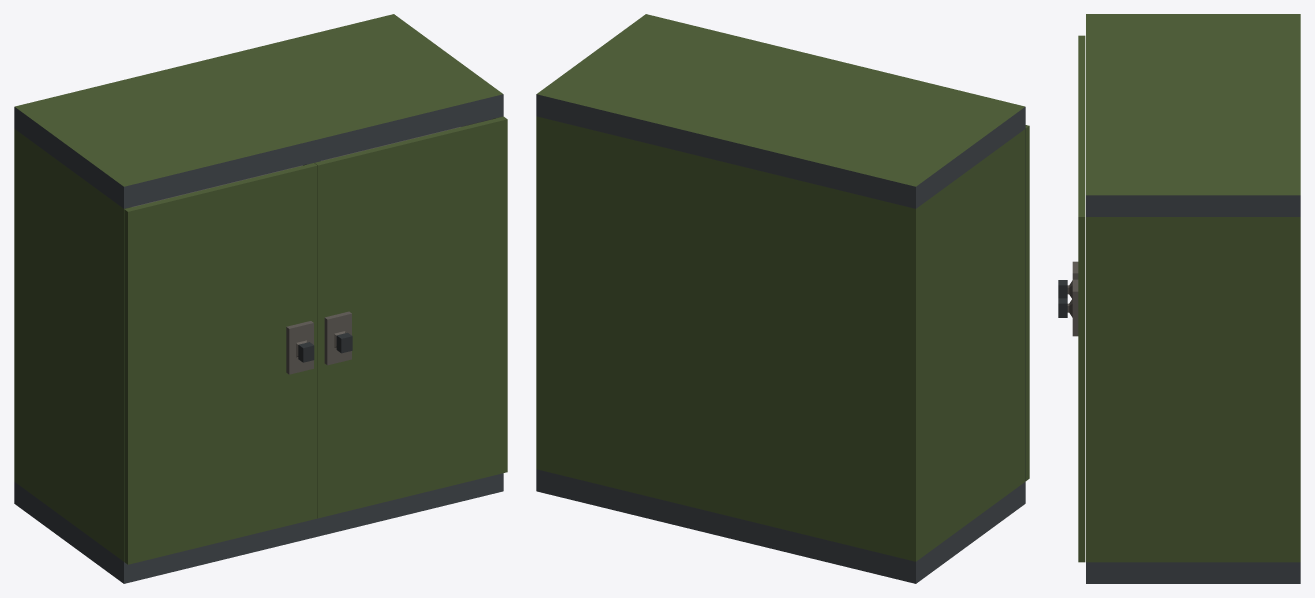
File: dryingcabinetlarge_01_B.gltf
The picture shows the model from 3 angles, left to right: view 1: azimuth 30°, elevation 25°; view 2: azimuth 150°, elevation 25°; view 3: azimuth 270°, elevation 25°; orthographic projection. The views are drawn at different scales.
Visible parts, largest first — view 1: dryingcabinetlarge_01_B, Doordryingcabinetlargeleft_01_B, Doordryingcabinetlargeright_01_B; view 2: dryingcabinetlarge_01_B, Doordryingcabinetlargeleft_01_B; view 3: dryingcabinetlarge_01_B, Doordryingcabinetlargeright_01_B, Doordryingcabinetlargeleft_01_B.
Boxes of the visible parts, box(x1,y1,x2,y2) form: dryingcabinetlarge_01_B: box(14, 14, 503, 583); Doordryingcabinetlargeleft_01_B: box(124, 163, 317, 564); Doordryingcabinetlargeright_01_B: box(314, 116, 507, 518); dryingcabinetlarge_01_B: box(536, 14, 1025, 583); Doordryingcabinetlargeleft_01_B: box(1025, 125, 1029, 480); dryingcabinetlarge_01_B: box(1086, 14, 1300, 583); Doordryingcabinetlargeright_01_B: box(1058, 126, 1085, 562); Doordryingcabinetlargeleft_01_B: box(1058, 35, 1085, 298).
Bounding box in the file's own units: 2 × 2 × 1.13.
Materials: 1 (1 with a texture image).
